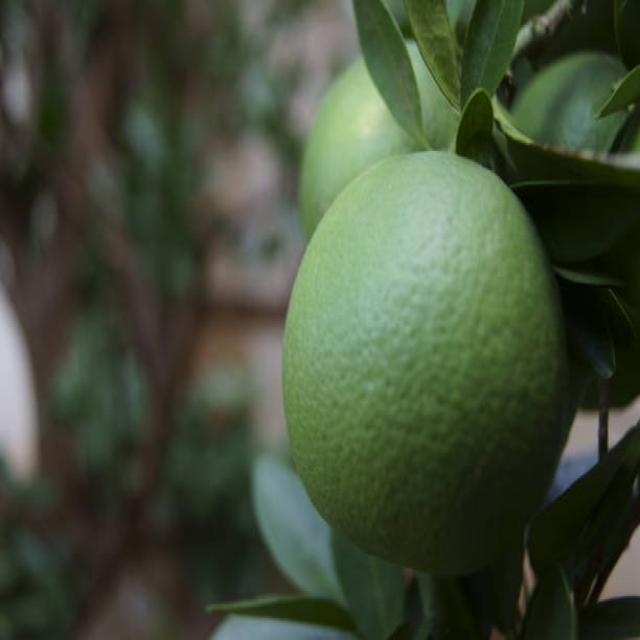Unripe: (283, 147, 565, 566)
